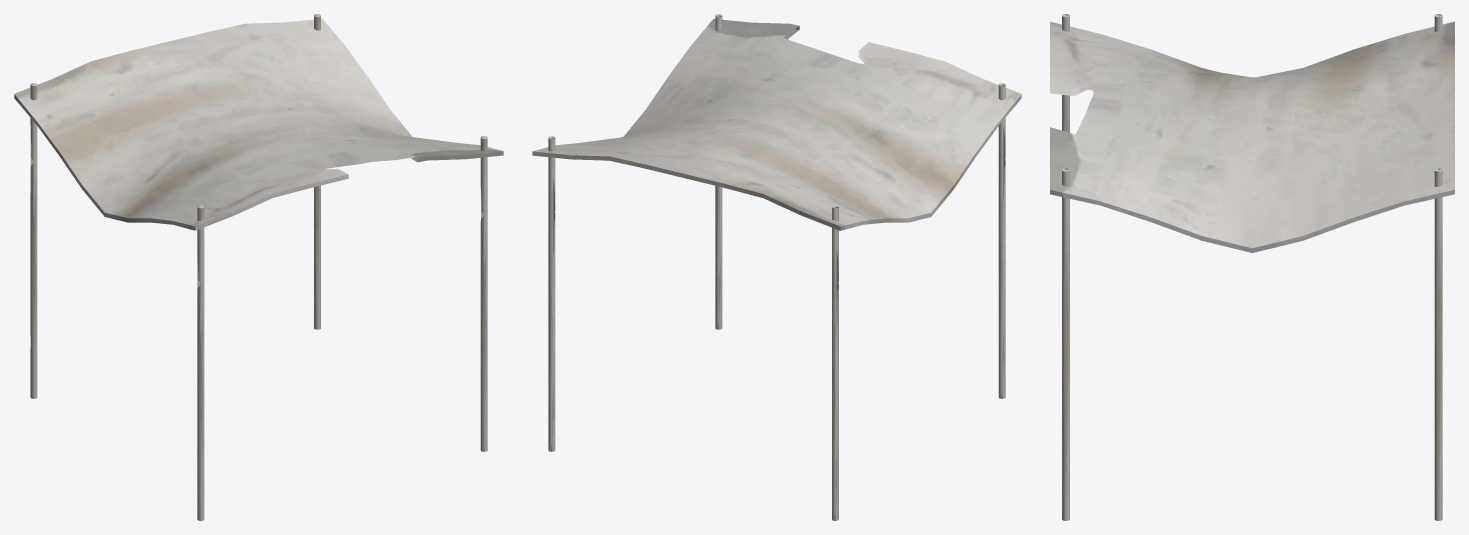
3 views of the same model, side by side, from view 1: azimuth 30°, elevation 25°; view 2: azimuth 150°, elevation 25°; view 3: azimuth 270°, elevation 25° (orthographic). The views are drawn at different scales.
Parts seen in each view (by area): view 1: SM_Candle_01_v6_LOD0; view 2: SM_Candle_01_v6_LOD0; view 3: SM_Candle_01_v6_LOD0.
Part boxes in pixels (bbox=[...]): SM_Candle_01_v6_LOD0: bbox=[14, 14, 503, 520]; SM_Candle_01_v6_LOD0: bbox=[532, 14, 1021, 520]; SM_Candle_01_v6_LOD0: bbox=[1050, 14, 1454, 520].
Bounding box in the file's own units: 4.25 × 4.16 × 4.32.
